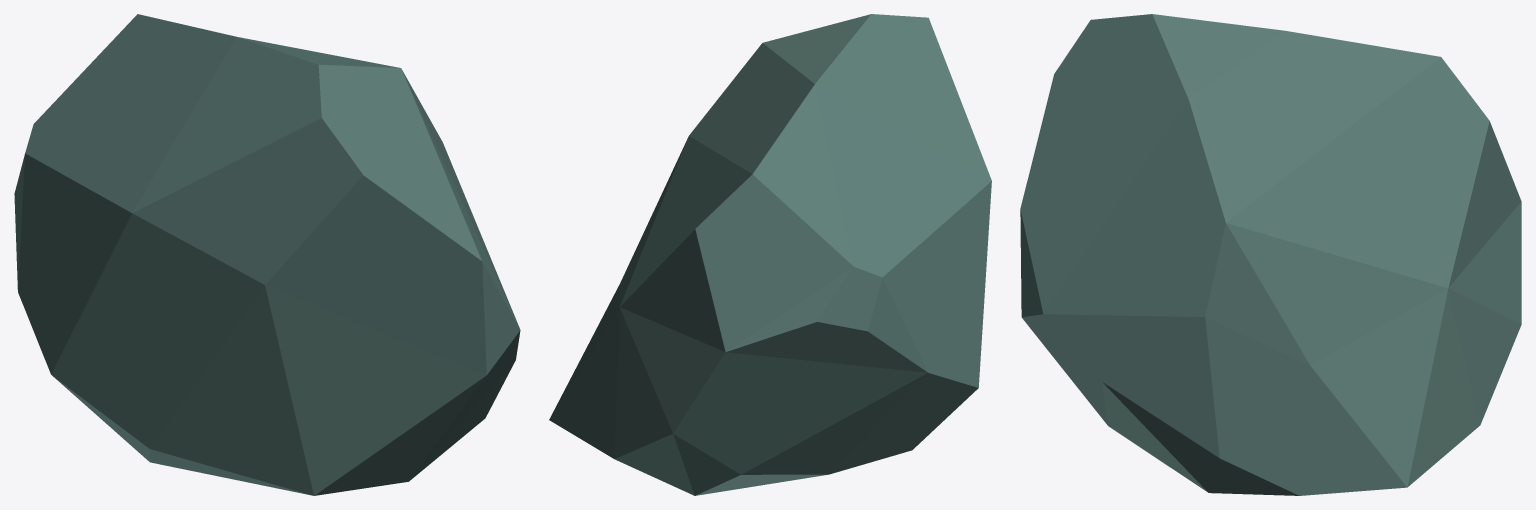
3 renders of one model, left to right at view 1: azimuth 30°, elevation 25°; view 2: azimuth 150°, elevation 25°; view 3: azimuth 270°, elevation 25°, orthographic. The views are drawn at different scales.
Visible parts, largest first — view 1: 石头8; view 2: 石头8; view 3: 石头8.
Boxes of the visible parts, x1=… form: 石头8: x1=14, y1=14, x2=520, y2=495; 石头8: x1=549, y1=14, x2=991, y2=495; 石头8: x1=1020, y1=14, x2=1521, y2=495.
Bounding box in the file's own units: 99.91 × 100 × 113.
